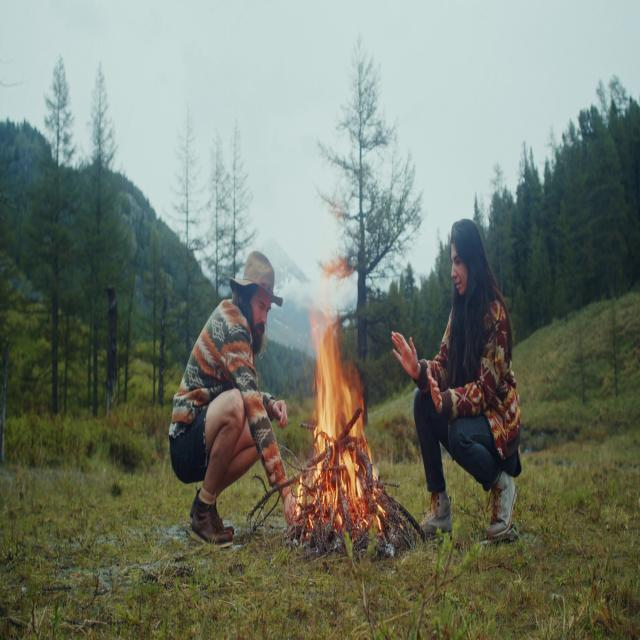Fire: (297, 290, 383, 530)
